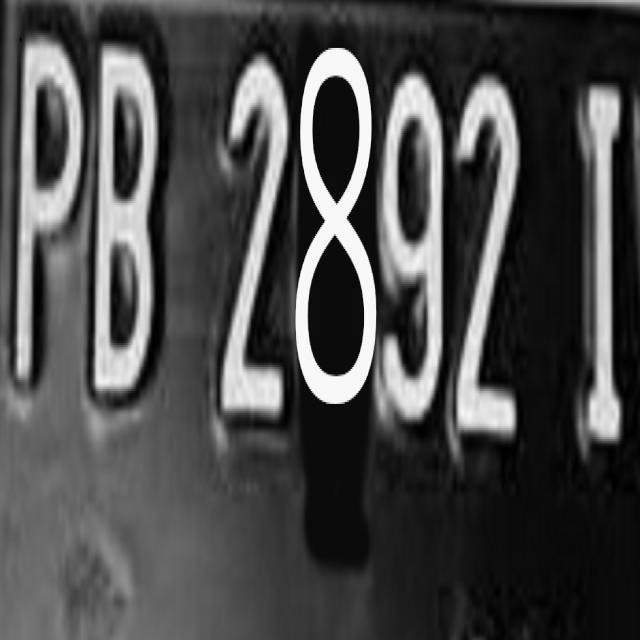2: (200, 54, 298, 436), (454, 80, 548, 456)
8: (290, 25, 374, 424)
9: (373, 70, 447, 423)
B: (86, 36, 174, 414)
I: (548, 80, 636, 451)
P: (7, 25, 86, 392)
